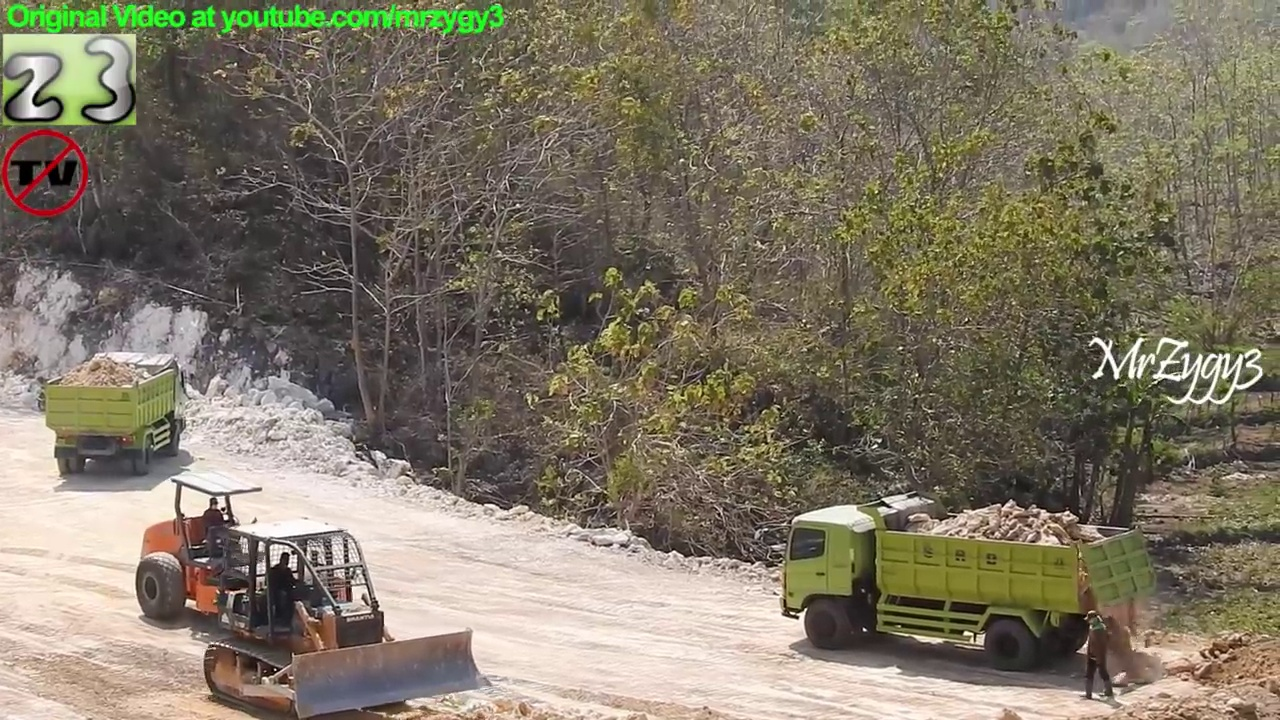bulldozer: (198, 514, 496, 720)
compactor: (131, 469, 354, 643)
truck: (764, 485, 1164, 676), (34, 347, 189, 481)
